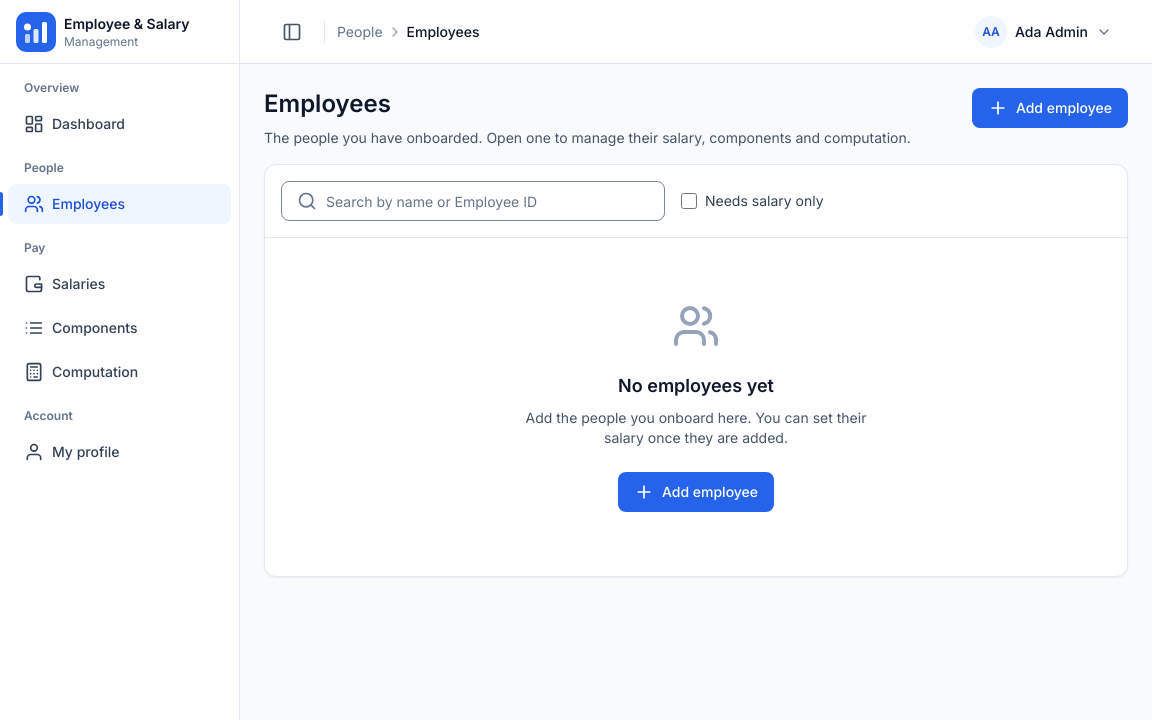
Employees page › adding › creates the employee, closes, toasts, lists the new row and returns focus
The image size is (1152, 720).
Check: the heading "No employees yet" is shown, box [618, 372, 774, 400]
Click the 1st button "Add employee" at (1050, 108), box [972, 88, 1128, 128]
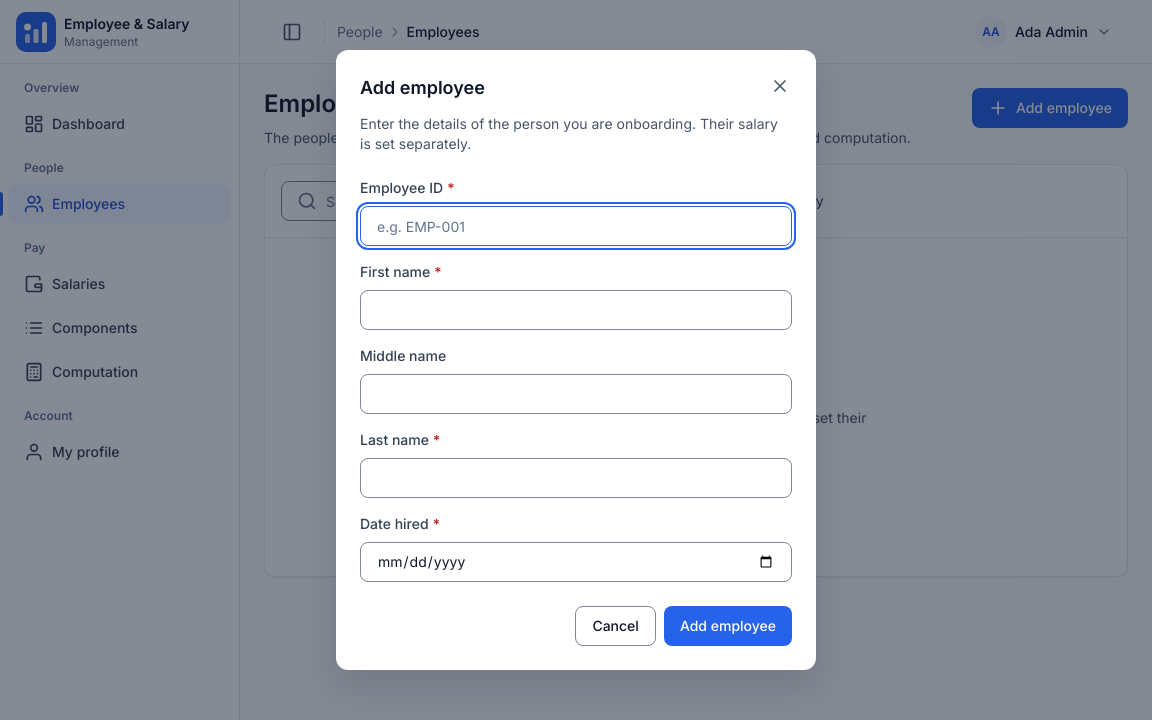
Type "EMP-900" into the field labelled "Employee ID*" at (576, 226), box [360, 206, 792, 246]
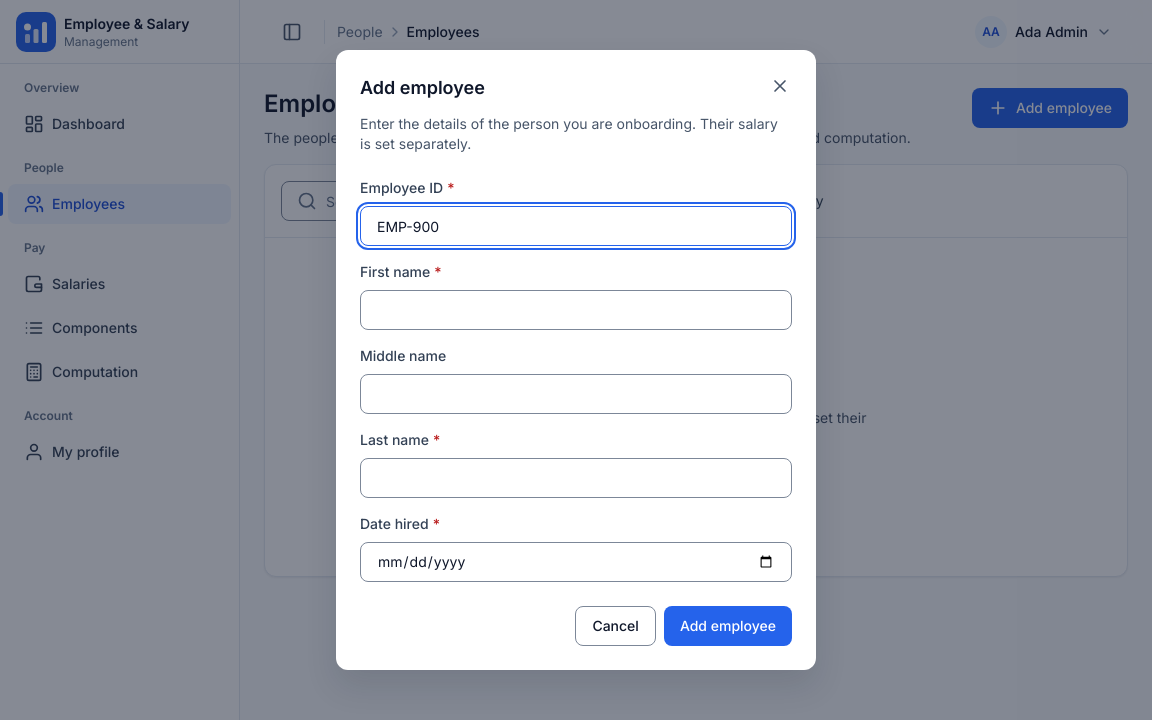
Type "Ana" into the field labelled "First name*" at (576, 310), box [360, 290, 792, 330]
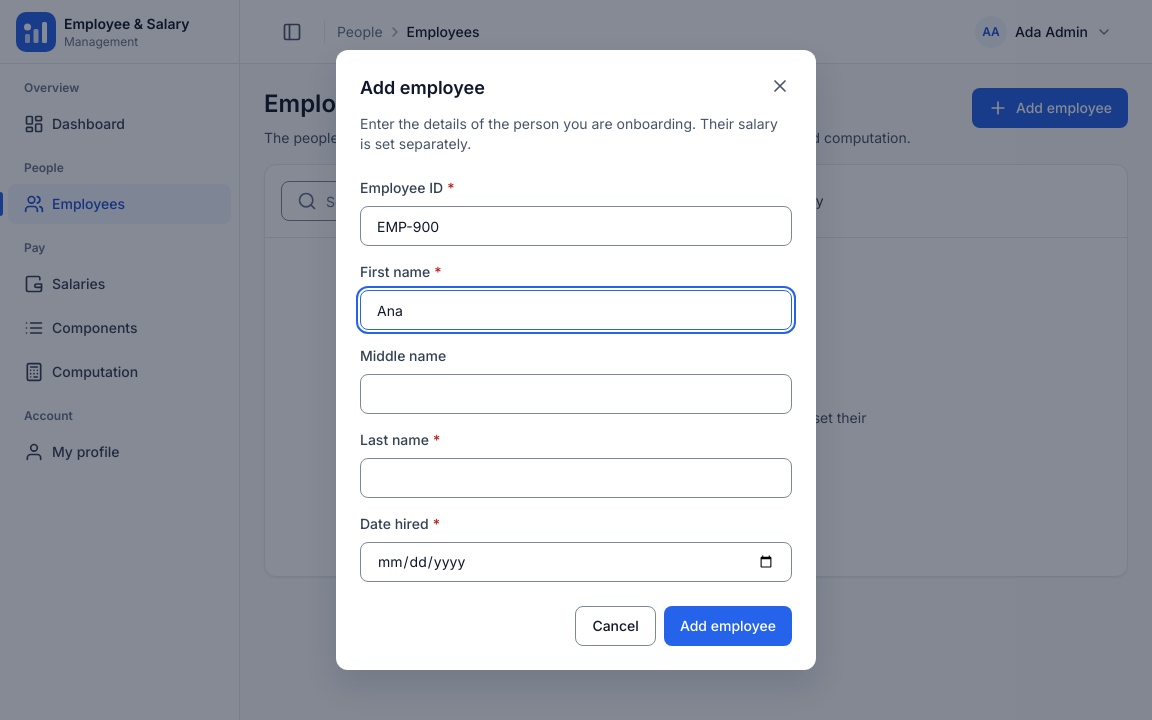
Type "Reyes" into the field labelled "Last name*" at (576, 478), box [360, 458, 792, 498]
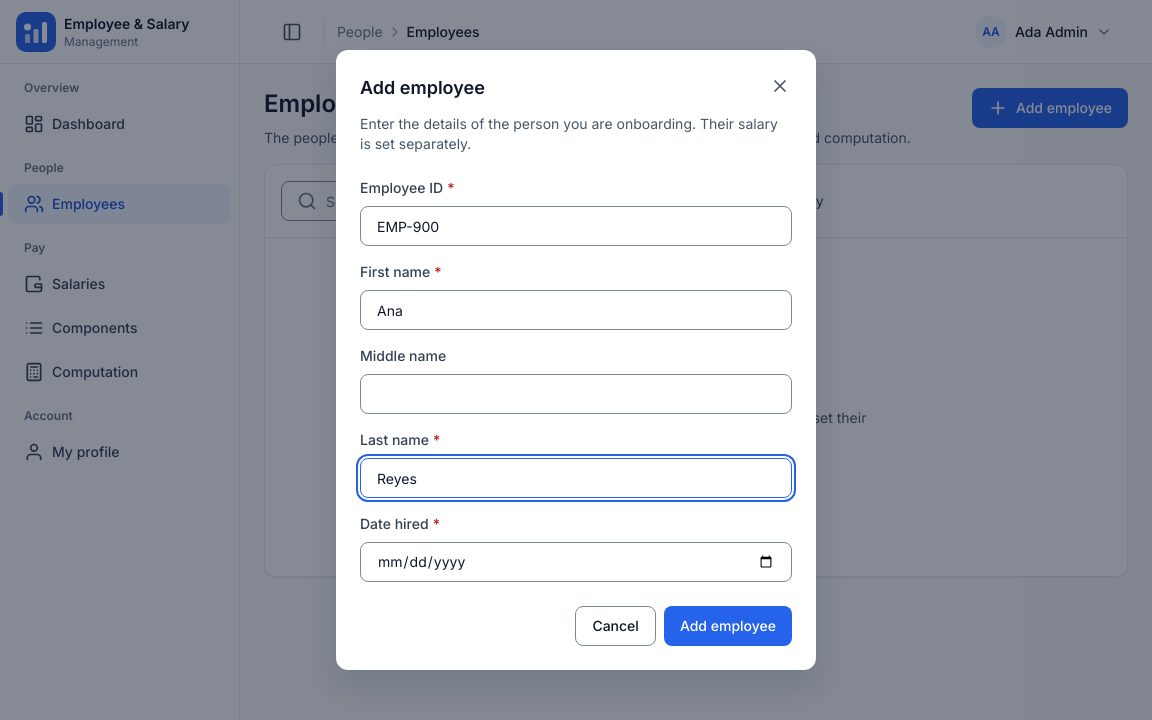
Type "2024-03-01" into the date field labelled "Date hired*" at (576, 562), box [360, 542, 792, 582]
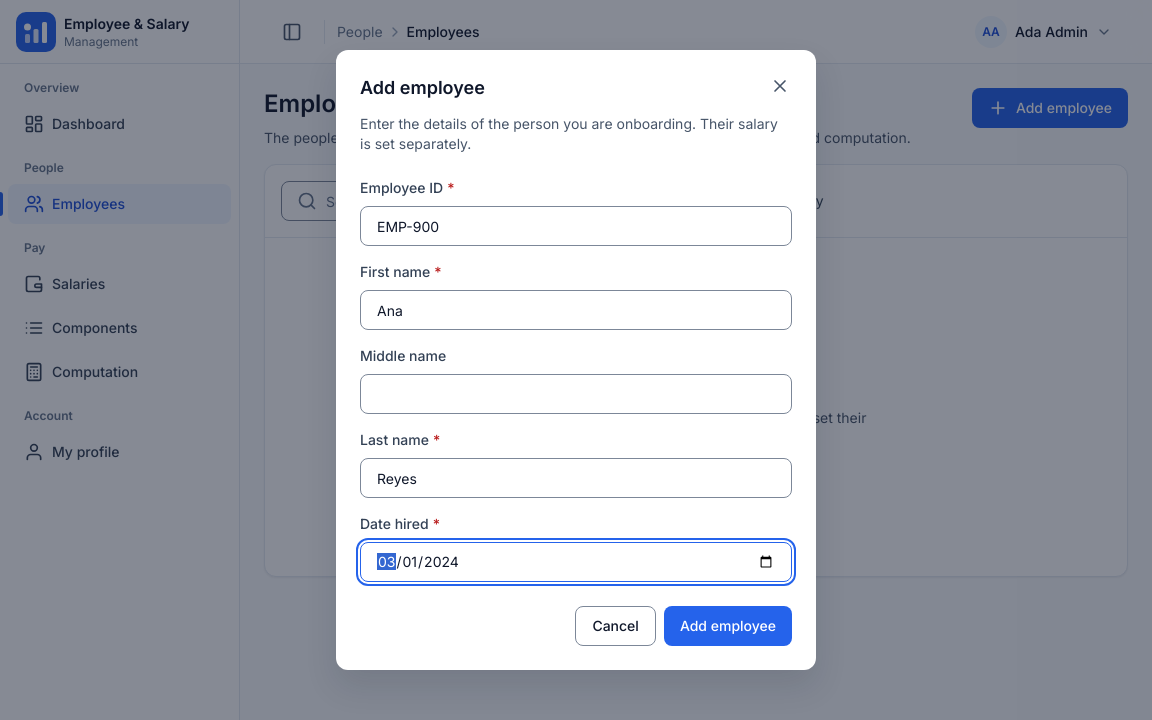
Click the button "Add employee" at (728, 626), box [664, 606, 792, 646]
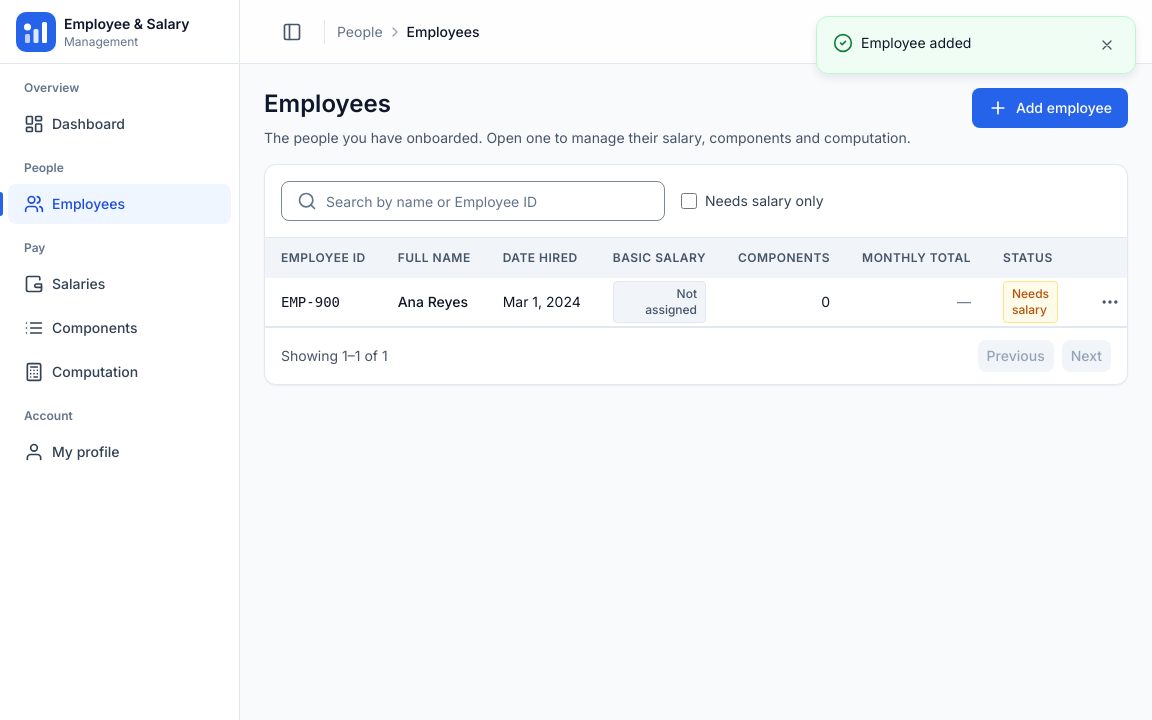
Check: the text "Employee added" is shown, box [861, 34, 971, 51]
Check: the dialog is gone
Check: the link "Ana Reyes" is shown, box [398, 293, 468, 310]
